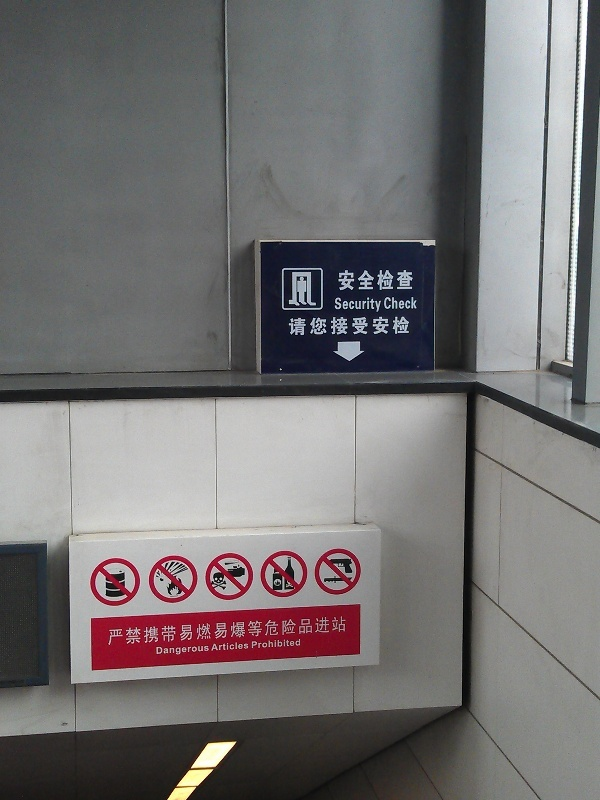text: (113, 616, 128, 647), (129, 616, 144, 647), (145, 616, 160, 647), (161, 616, 176, 647), (177, 616, 192, 647), (193, 616, 208, 647), (209, 616, 224, 647), (225, 616, 240, 647), (241, 616, 256, 647), (257, 616, 272, 647), (273, 616, 288, 647), (289, 616, 304, 647), (305, 616, 320, 647), (321, 616, 336, 647), (289, 314, 304, 338), (305, 314, 320, 338), (321, 314, 336, 338), (337, 314, 352, 338), (353, 314, 368, 338), (369, 314, 384, 338), (385, 314, 400, 338), (353, 269, 368, 291), (369, 269, 384, 291), (385, 269, 400, 291), (337, 616, 347, 647), (338, 269, 352, 291), (401, 269, 414, 291), (337, 296, 352, 313), (353, 296, 368, 313), (401, 314, 411, 338), (369, 296, 382, 313), (161, 643, 176, 657), (177, 643, 192, 657), (193, 643, 208, 657), (401, 297, 417, 310), (385, 297, 400, 310), (225, 641, 240, 652), (257, 639, 272, 650), (273, 639, 288, 650), (107, 616, 112, 647), (211, 641, 224, 652), (289, 639, 302, 650), (241, 641, 251, 652), (155, 643, 160, 657), (251, 639, 256, 650), (334, 296, 336, 313), (209, 643, 210, 657)
